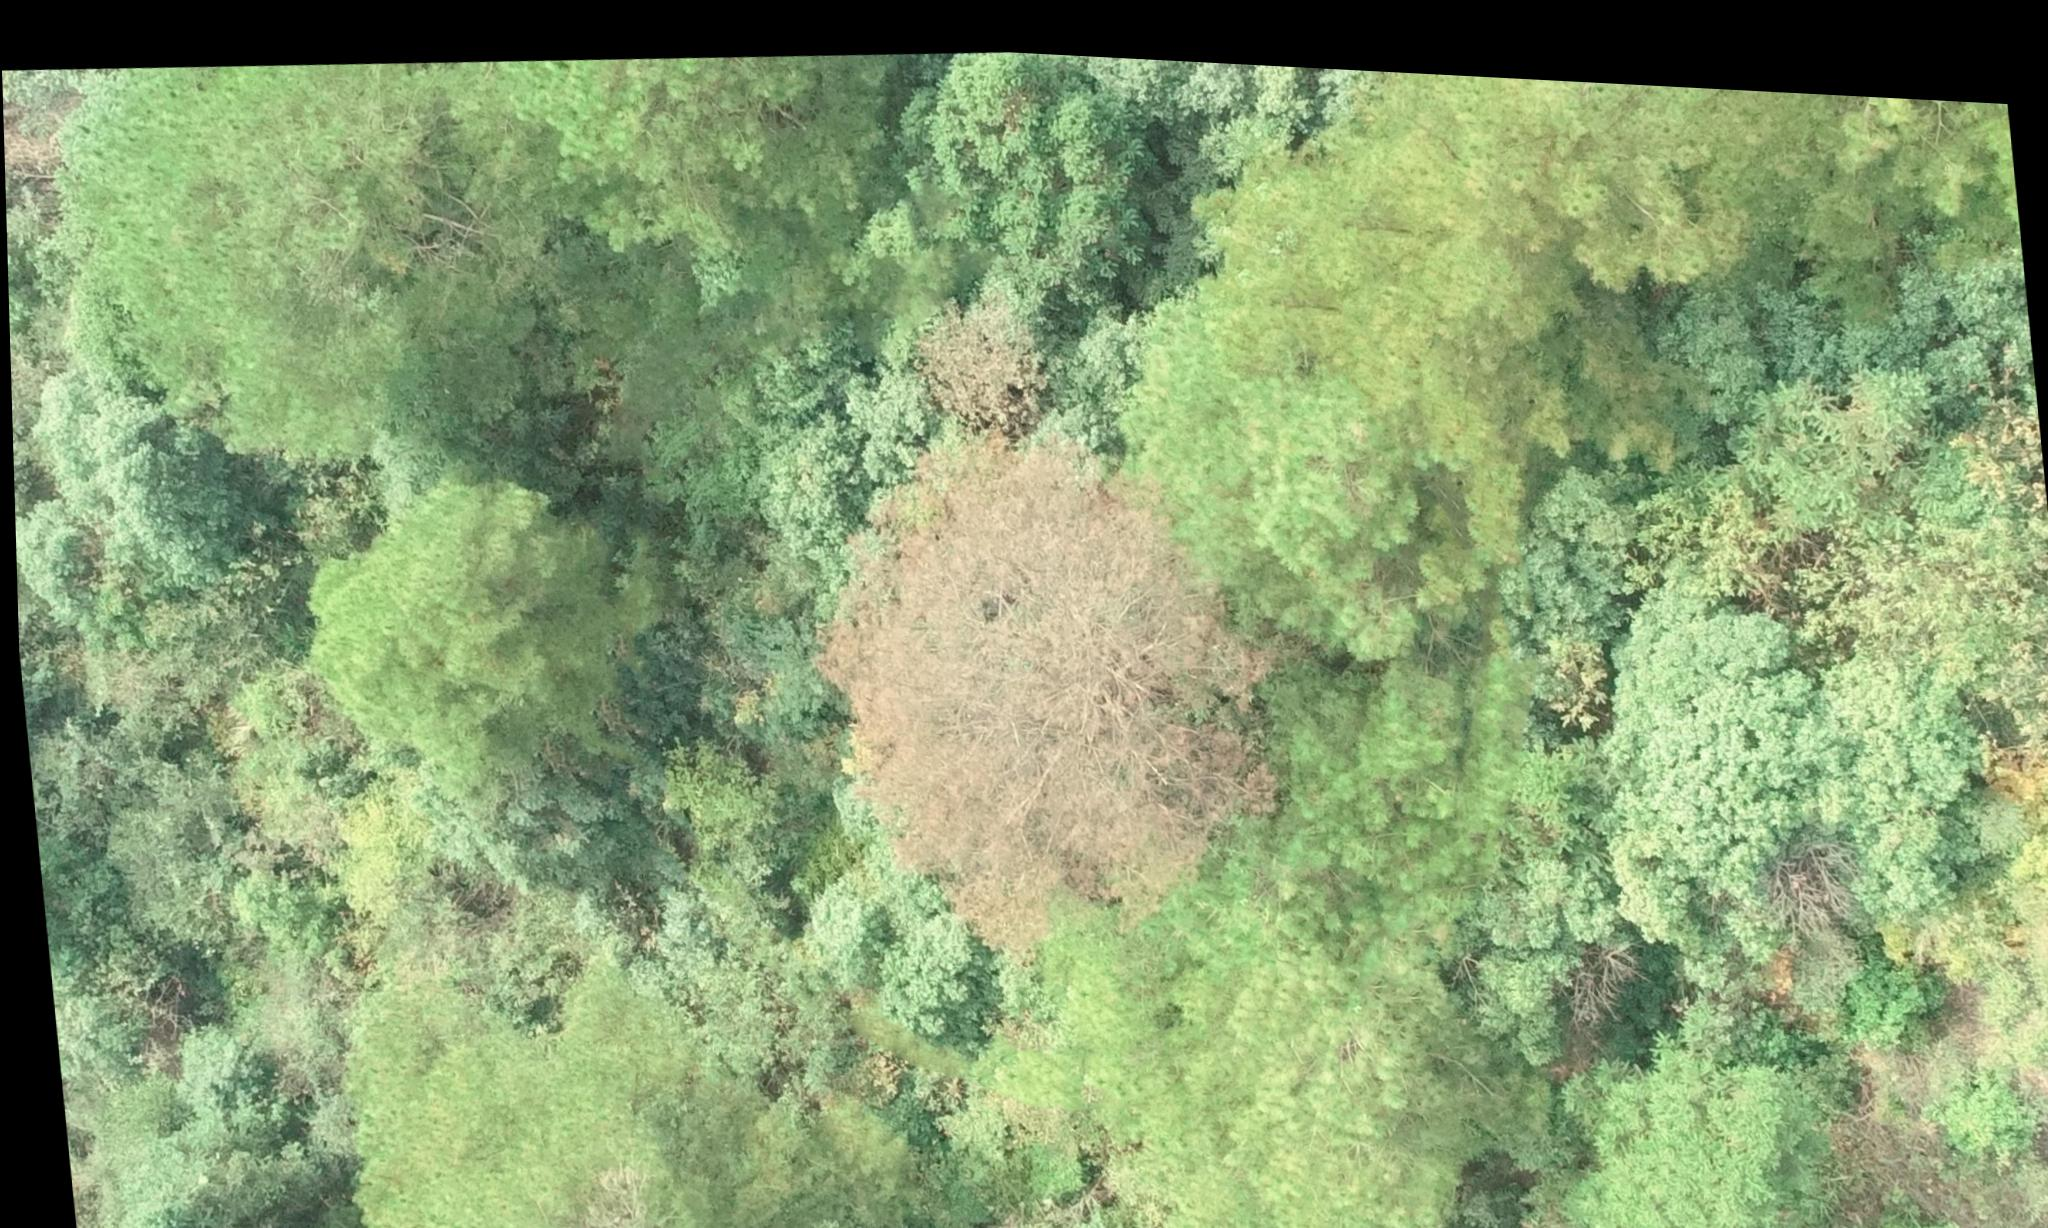heavy: (810, 387, 1291, 966)
